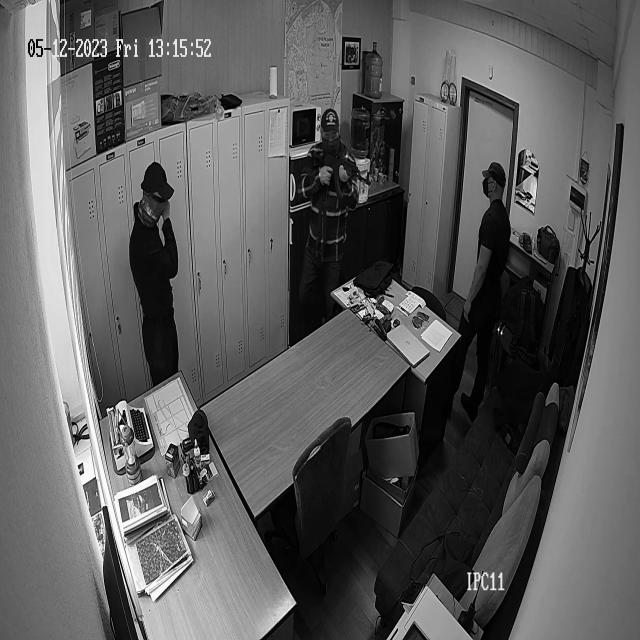gun: (314, 156, 370, 202)
person: (458, 162, 510, 425), (126, 170, 182, 370)
person with a gun: (292, 108, 370, 329)
